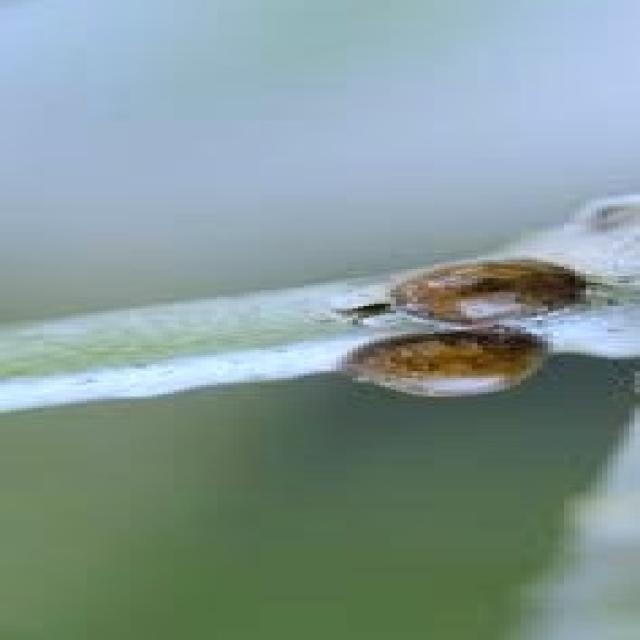Black Scale: (347, 327, 548, 394), (391, 262, 580, 322)
